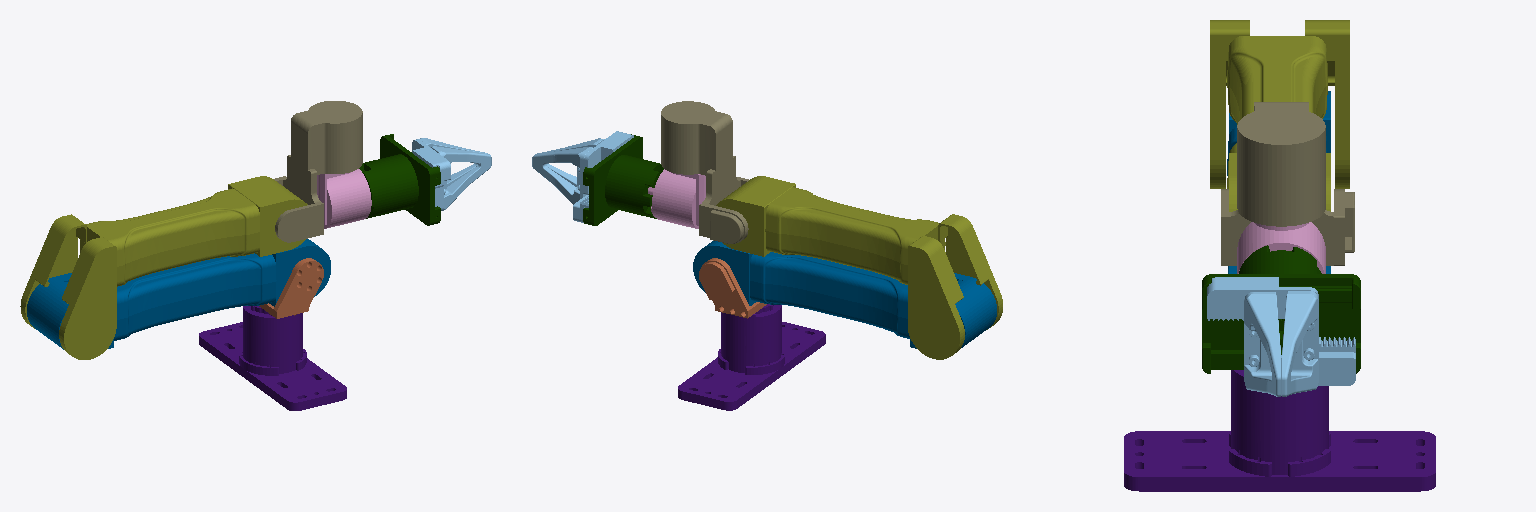
URDF robot description (yam_ultra):
<!--URDF generated by ONSHAPE BY PTC INC, 1.218-->
<!-- onshape-normalize: v1 applied 2026-07-29; root_joint_rpy="0 1.5708 -3.57884e-17"; heading=pending (run apply_urdf_heading.py); tool=.claude/skills/transform-onshape-urdf/scripts/normalize_onshape_urdf.py -->
<!-- onshape-heading: v1 applied 2026-07-29; rpy="0 -3.673205103379957e-06 3.141592653589793"; tool=.claude/skills/transform-onshape-urdf/scripts/apply_urdf_heading.py -->
<!-- flange-convention: v1 applied 2026-09-16; flange rotated rpy="3.141592653589793 -0 1.5707963267948966" to z-forward/x-right/y-down; joint6 axis sign +1; children counter-rotated (no part moves) -->
<robot name="yam_ultra">
    <link name="gripper">
        <inertial>
            <mass value="0.553219" />
            <origin xyz="0.000249371 -3.57064e-05 0.0293133" rpy="3.141592653589793 0 1.5707963267948966" />
            <inertia ixx="0.000409669" ixy="5.44941e-07" ixz="7.91268e-07" iyy="0.000324942" iyz="-4.83959e-06" izz="0.000369249" />
        </inertial>
        <visual>
            <origin xyz="-0.0463995 -0.014 -0.0731" rpy="3.141592653589793 0 1.5707963267948966" />
            <geometry>
                <mesh filename="assets/gripper.stl" scale="1 1 1" />
            </geometry>
            <material name="0.109804_0.286275_0.011765_0.000000_0.000000">
                <color rgba="0.109804 0.286275 0.0117647 1" />
            </material>
        </visual>
    </link>
    <link name="link1">
        <inertial>
            <mass value="0.101218" />
            <origin xyz="-0.0233636 -0.00172503 -0.00727828" rpy="0 0 0" />
            <inertia ixx="0.000114689" ixy="-4.62759e-06" ixz="-1.3427e-05" iyy="4.76603e-05" iyz="-2.58724e-06" izz="0.000125996" />
        </inertial>
        <visual>
            <origin xyz="-0.119501 -0.0464 -0.0374968" rpy="0 0 0" />
            <geometry>
                <mesh filename="assets/link1.stl" scale="1 1 1" />
            </geometry>
            <material name="0.725490_0.450980_0.317647_0.000000_0.000000">
                <color rgba="0.72549 0.45098 0.317647 1" />
            </material>
        </visual>
    </link>
    <link name="link2">
        <inertial>
            <mass value="1.63122" />
            <origin xyz="0.000134495 -0.0321253 0.129165" rpy="0 0 0" />
            <inertia ixx="0.0162876" ixy="-1.22884e-08" ixz="-4.80798e-07" iyy="0.0162103" iyz="3.47061e-06" izz="0.000888393" />
        </inertial>
        <visual>
            <origin xyz="-0.0740001 -0.07925 -0.0174977" rpy="0 0 0" />
            <geometry>
                <mesh filename="assets/link2.stl" scale="1 1 1" />
            </geometry>
            <material name="0.000000_0.400000_0.600000_0.000000_0.000000">
                <color rgba="0 0.4 0.6 1" />
            </material>
        </visual>
    </link>
    <link name="link3">
        <inertial>
            <mass value="1.06053" />
            <origin xyz="-0.0556042 0.0357986 -0.135083" rpy="0 0 0" />
            <inertia ixx="0.00819179" ixy="4.70685e-06" ixz="-0.000691539" iyy="0.0082366" iyz="-1.18713e-05" izz="0.00101202" />
        </inertial>
        <visual>
            <origin xyz="-0.0740003 -0.01145 -0.281499" rpy="0 0 0" />
            <geometry>
                <mesh filename="assets/link3.stl" scale="1 1 1" />
            </geometry>
            <material name="0.552941_0.580392_0.203922_0.000000_0.000000">
                <color rgba="0.552941 0.580392 0.203922 1" />
            </material>
        </visual>
    </link>
    <link name="link4">
        <inertial>
            <mass value="0.46079" />
            <origin xyz="-0.0548959 -0.0350242 -0.0575534" rpy="0 0 0" />
            <inertia ixx="0.000472184" ixy="2.99924e-05" ixz="-0.00023809" iyy="0.000761748" iyz="2.91739e-05" izz="0.000602693" />
        </inertial>
        <visual>
            <origin xyz="-0.0138003 -0.0802502 -0.0364989" rpy="0 0 0" />
            <geometry>
                <mesh filename="assets/link4.stl" scale="1 1 1" />
            </geometry>
            <material name="0.545098_0.525490_0.419608_0.000000_0.000000">
                <color rgba="0.545098 0.52549 0.419608 1" />
            </material>
        </visual>
    </link>
    <link name="link5">
        <inertial>
            <mass value="0.403307" />
            <origin xyz="0.0375847 -3.55003e-05 -0.00717397" rpy="0 0 0" />
            <inertia ixx="0.000184284" ixy="2.10549e-07" ixz="1.29173e-05" iyy="0.000219791" iyz="-3.49657e-07" izz="0.000181053" />
        </inertial>
        <visual>
            <origin xyz="0.0265 -0.0463995 0.0311519" rpy="0 0 0" />
            <geometry>
                <mesh filename="assets/link5.stl" scale="1 1 1" />
            </geometry>
            <material name="0.827451_0.623529_0.784314_0.000000_0.000000">
                <color rgba="0.827451 0.623529 0.784314 1" />
            </material>
        </visual>
    </link>
    <link name="tip_left">
        <inertial>
            <mass value="0.069657" />
            <origin xyz="0.014584 -0.042586 -0.0228318" rpy="0 0 0" />
            <inertia ixx="5.14494e-05" ixy="1.10836e-05" ixz="1.00197e-05" iyy="4.99137e-05" iyz="-1.14425e-05" izz="4.79405e-05" />
        </inertial>
        <visual>
            <origin xyz="0.00999321 -0.0914614 0.129783" rpy="0 0 0" />
            <geometry>
                <mesh filename="assets/tip_left.stl" scale="1 1 1" />
            </geometry>
            <material name="0.596078_0.788235_0.921569_0.000000_0.000000">
                <color rgba="0.596078 0.788235 0.921569 1" />
            </material>
        </visual>
    </link>
    <link name="tip_right">
        <inertial>
            <mass value="0.069657" />
            <origin xyz="-0.014584 0.042586 -0.0228318" rpy="0 0 0" />
            <inertia ixx="5.14494e-05" ixy="1.10836e-05" ixz="-1.00197e-05" iyy="4.99137e-05" iyz="1.14425e-05" izz="4.79405e-05" />
        </inertial>
        <visual>
            <origin xyz="-0.0379932 -0.00133753 0.129783" rpy="0 0 0" />
            <geometry>
                <mesh filename="assets/tip_right.stl" scale="1 1 1" />
            </geometry>
            <material name="0.596078_0.788235_0.921569_0.000000_0.000000">
                <color rgba="0.596078 0.788235 0.921569 1" />
            </material>
        </visual>
    </link>
    <link name="base">
        <inertial>
            <mass value="0.940115" />
            <origin xyz="-3.611e-05 2.26344e-05 0.0274792" rpy="0 1.57079632679 3.14159265359" />
            <inertia ixx="0.0016196" ixy="-1.03784e-06" ixz="1.78603e-07" iyy="0.000815619" iyz="2.47893e-07" izz="0.00184612" />
        </inertial>
        <visual>
            <origin xyz="0.0374966 0.0464005 0.193801" rpy="0 1.57079632679 3.14159265359" />
            <geometry>
                <mesh filename="assets/base.stl" scale="1 1 1" />
            </geometry>
            <material name="0.317647_0.121569_0.498039_0.000000_0.000000">
                <color rgba="0.317647 0.121569 0.498039 1" />
            </material>
        </visual>
    </link>
    <joint name="joint1" type="revolute">
        <origin xyz="0 0 0.0733" rpy="0 1.57079632679 3.14159265359" />
        <axis xyz="-1 0 0" />
        <parent link="base" />
        <child link="link1" />
        <limit effort="1" velocity="1" lower="-2.61799" upper="3.14159" />
    </joint>
    <joint name="joint2" type="revolute">
        <origin xyz="-0.0455 0.03285 -0.02" rpy="0 0 0" />
        <axis xyz="0 -1 0" />
        <parent link="link1" />
        <child link="link2" />
        <limit effort="1" velocity="1" lower="0" upper="3.66519" />
    </joint>
    <joint name="joint3" type="revolute">
        <origin xyz="0 -0.0678 0.264" rpy="0 0 0" />
        <axis xyz="0 1 0" />
        <parent link="link2" />
        <child link="link3" />
        <limit effort="1" velocity="1" lower="0" upper="3.14159" />
    </joint>
    <joint name="joint4" type="revolute">
        <origin xyz="-0.0600003 0.0678 -0.244999" rpy="0 0 0" />
        <axis xyz="0 1 0" />
        <parent link="link3" />
        <child link="link4" />
        <limit effort="1" velocity="1" lower="-1.69297" upper="1.5708" />
    </joint>
    <joint name="joint5" type="revolute">
        <origin xyz="-0.0403003 -0.0338507 -0.0703851" rpy="0 0 0" />
        <axis xyz="1 0 0" />
        <parent link="link4" />
        <child link="link5" />
        <limit effort="1" velocity="1" lower="-1.5708" upper="1.5708" />
    </joint>
    <joint name="joint6" type="revolute">
        <origin xyz="0.0404996 0 -0.0419481" rpy="3.141592653589793 0 1.570796326794901" />
        <axis xyz="0 0 1" />
        <parent link="link5" />
        <child link="gripper" />
        <limit effort="1" velocity="1" lower="-2.0944" upper="2.0944" />
    </joint>
    <joint name="joint7" type="prismatic">
        <origin xyz="-0.0445119 0.0239931 0.0566919" rpy="3.141592653589784 0 -1.5708" />
        <axis xyz="0 1 0" />
        <parent link="gripper" />
        <child link="tip_left" />
        <limit effort="1" velocity="1" lower="-0.0475" upper="1.84314e-18" />
    </joint>
    <joint name="joint8" type="prismatic">
        <origin xyz="0.0445119 -0.0239931 0.0566829" rpy="3.1415926535897842 0 -1.5708" />
        <axis xyz="0 -1 0" />
        <parent link="gripper" />
        <child link="tip_right" />
        <limit effort="1" velocity="1" lower="-0.0475" upper="8.78204e-18" />
    </joint>
</robot>

--- Render facts (derived) ---
Views: 3 orthographic renders of the robot side by side, from view 1: azimuth 30°, elevation 25°; view 2: azimuth 150°, elevation 25°; view 3: azimuth 270°, elevation 25°.
Model yam_ultra with 9 links and 8 joints (6 revolute, 2 prismatic), rooted at base, posed all joints at 0.
Visible links, largest first — view 1: link3, link2, base, link4, gripper, link5, link1, tip_left, tip_right; view 2: link3, link2, base, link4, gripper, link5, tip_right, link1, tip_left; view 3: base, link3, link4, gripper, tip_right, tip_left, link5, link2.
Link boxes in pixels (left/top/right/bottom): link3: left=20, top=176, right=307, bottom=359; link2: left=27, top=239, right=330, bottom=349; base: left=199, top=306, right=346, bottom=410; link4: left=274, top=101, right=362, bottom=242; gripper: left=359, top=134, right=440, bottom=225; link5: left=317, top=169, right=371, bottom=228; link1: left=259, top=258, right=323, bottom=318; tip_left: left=431, top=146, right=491, bottom=210; tip_right: left=412, top=138, right=487, bottom=188; link3: left=716, top=176, right=1002, bottom=359; link2: left=693, top=241, right=996, bottom=348; base: left=678, top=304, right=825, bottom=410; link4: left=661, top=101, right=748, bottom=243; gripper: left=583, top=134, right=663, bottom=225; link5: left=648, top=169, right=705, bottom=228; tip_right: left=532, top=131, right=633, bottom=204; link1: left=699, top=258, right=766, bottom=318; tip_left: left=535, top=138, right=604, bottom=222; base: left=1124, top=370, right=1435, bottom=491; link3: left=1210, top=20, right=1349, bottom=211; link4: left=1221, top=102, right=1354, bottom=265; gripper: left=1202, top=245, right=1360, bottom=373; tip_right: left=1207, top=277, right=1318, bottom=396; tip_left: left=1244, top=292, right=1355, bottom=396; link5: left=1237, top=222, right=1325, bottom=273; link2: left=1227, top=91, right=1330, bottom=273.
Size in the robot's own frame: 0.5357 by 0.2 by 0.2768 metres.
Meshes: 9 distinct files referenced, 9 mesh visuals loaded (9 binary STL).
